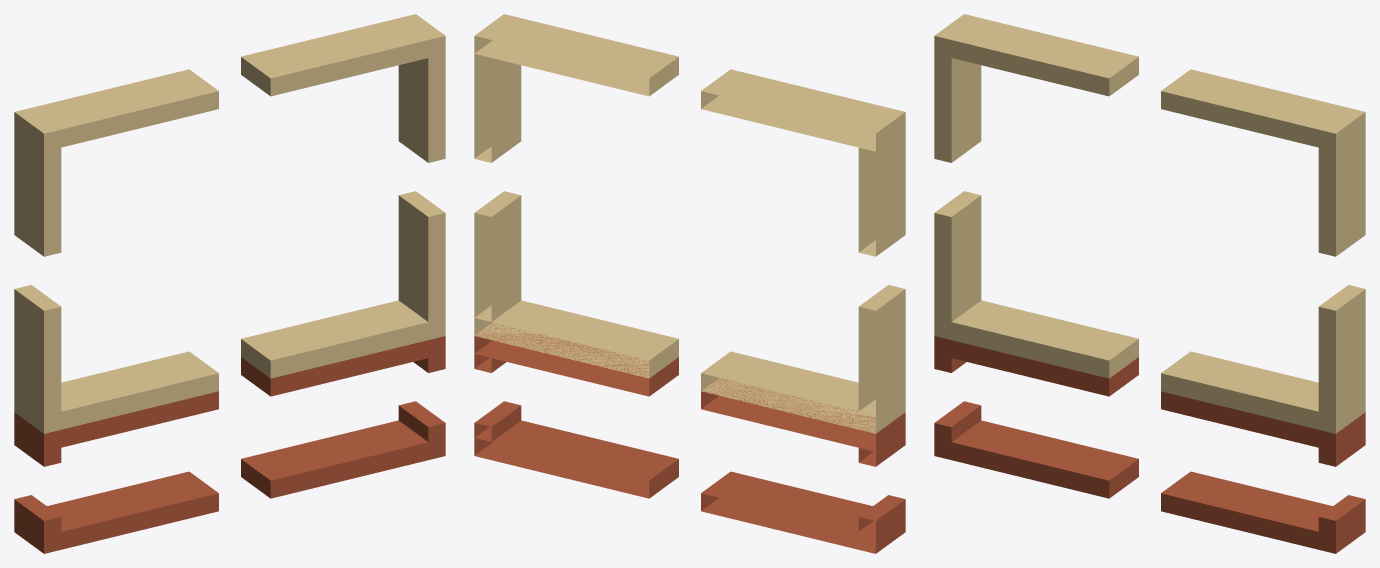
File: construction_0.glb
3 renders of one model, left to right at view 1: azimuth 30°, elevation 25°; view 2: azimuth 150°, elevation 25°; view 3: azimuth 330°, elevation 25°, orthographic.
Parts seen in each view (by area): view 1: c0; view 2: c0; view 3: c0.
Boxes of the visible parts, bbox=[...] form: c0: bbox=[14, 14, 445, 553]; c0: bbox=[474, 14, 905, 553]; c0: bbox=[934, 14, 1365, 553].
Size of the model in its own units: 14 by 14 by 1.8.
